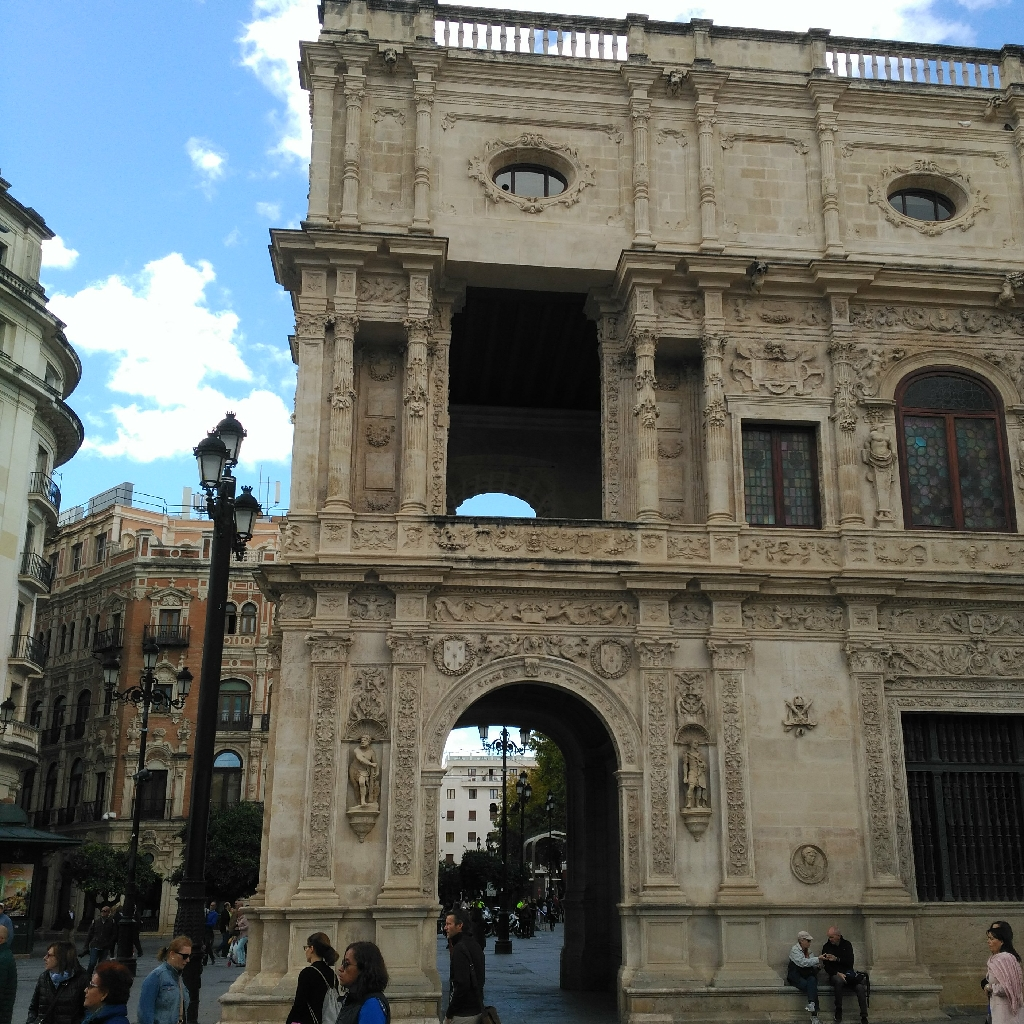arco-medio-punto: (433, 659, 640, 812), (884, 356, 1012, 433)
ojo-de-buey: (480, 138, 580, 211), (877, 167, 969, 227)
vano-adintelado: (875, 669, 1024, 905), (720, 394, 843, 531)
